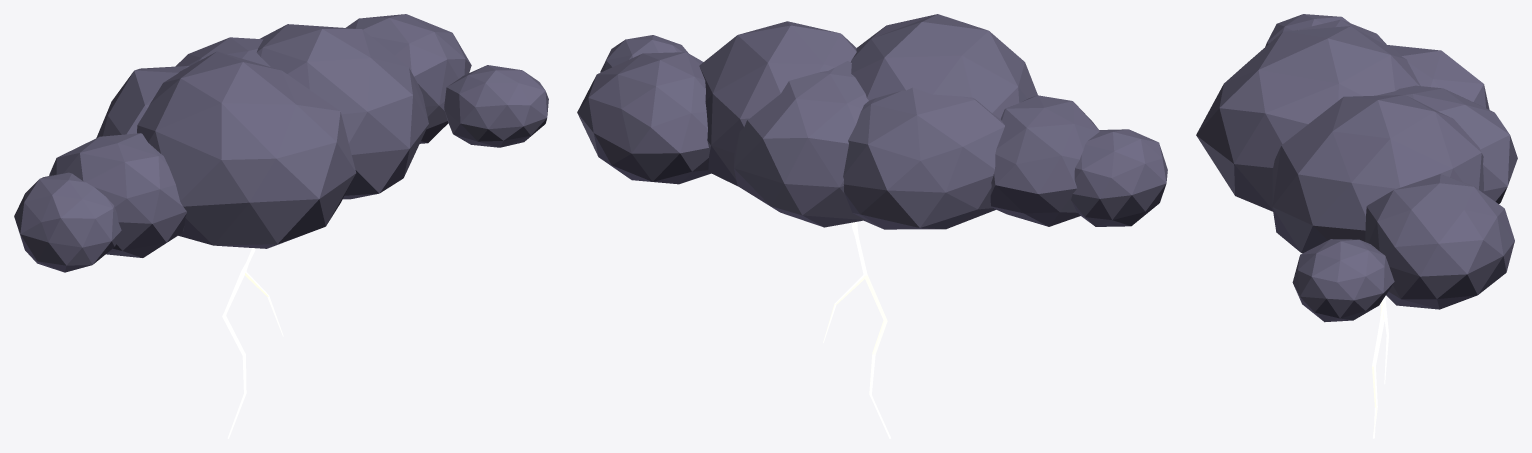
The model's file is storm_cloud.glb.
3 renders of one model, left to right at view 1: azimuth 30°, elevation 25°; view 2: azimuth 150°, elevation 25°; view 3: azimuth 270°, elevation 25°, orthographic.
Parts seen in each view (by area): view 1: StormCloud, BOLT_Lightning; view 2: StormCloud, BOLT_Lightning; view 3: StormCloud, BOLT_Lightning.
Part boxes in pixels (x1=…): StormCloud: x1=14, y1=14, x2=548, y2=272; BOLT_Lightning: x1=222, y1=248, x2=283, y2=438; StormCloud: x1=577, y1=14, x2=1167, y2=229; BOLT_Lightning: x1=823, y1=222, x2=890, y2=438; StormCloud: x1=1196, y1=14, x2=1517, y2=322; BOLT_Lightning: x1=1372, y1=296, x2=1388, y2=438.
Bounding box in the file's own units: 59.37 × 41.83 × 30.8.
